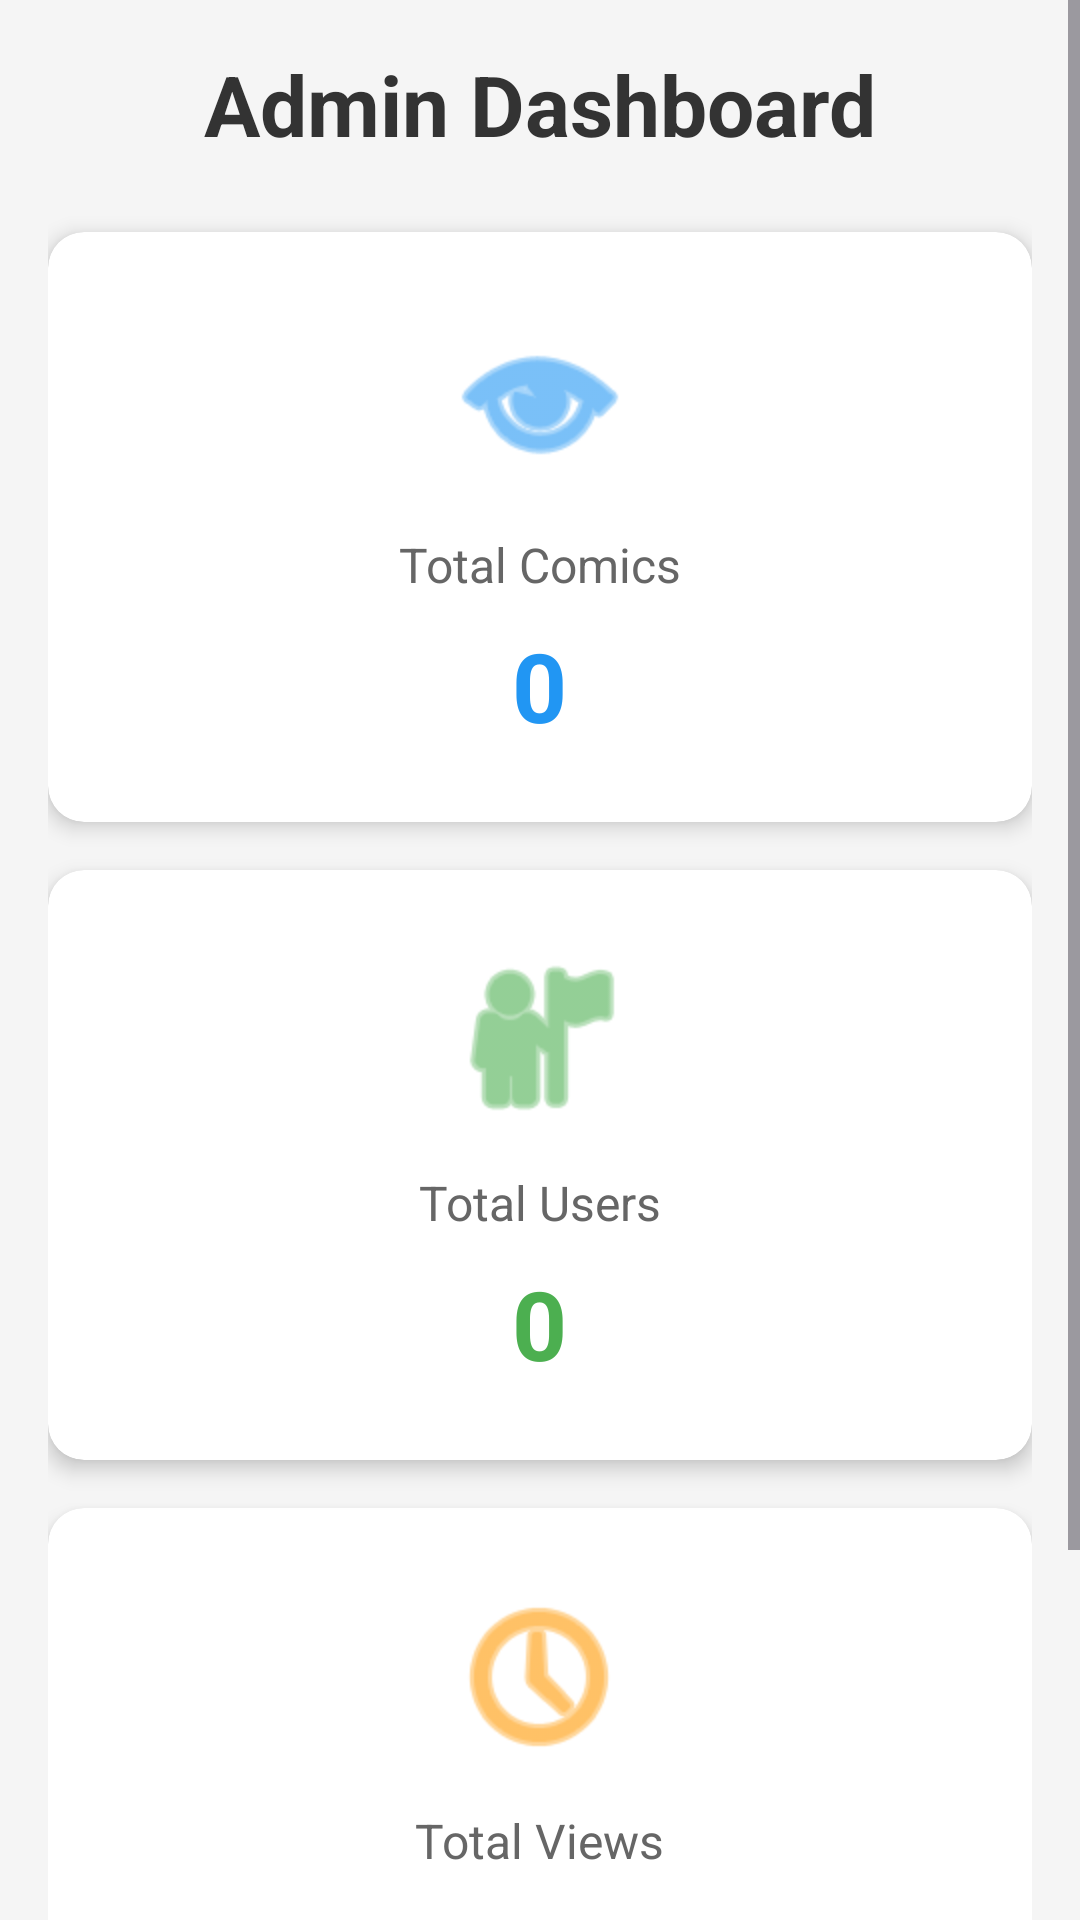

Point at icon controls on the screen. Image size 1080px×1920px, points as (x,y).
myplaces: (542,1037)
recent history: (539,1677)
view: (540,405)
